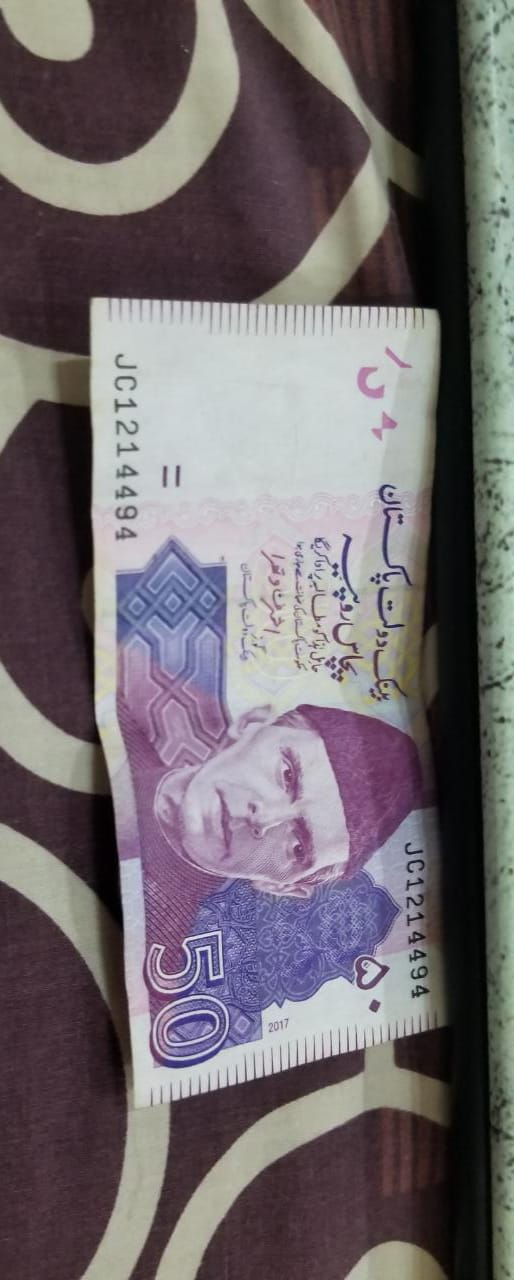50 rupee: (61, 283, 467, 1119)
